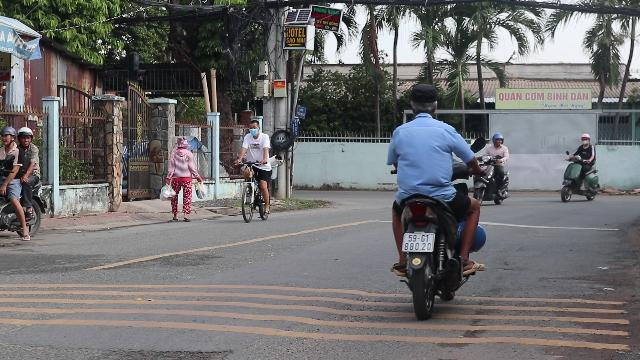helmet: (0, 126, 16, 146), (17, 126, 33, 146)
licenseplate: (401, 232, 435, 252)
motorcyclist: (381, 80, 489, 320), (0, 124, 48, 248)
nohelmet: (407, 82, 439, 118)
